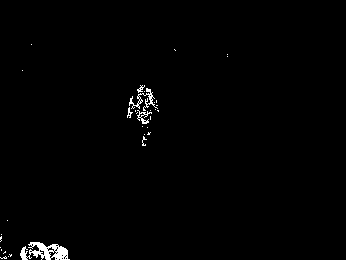person: (125, 83, 161, 151)
